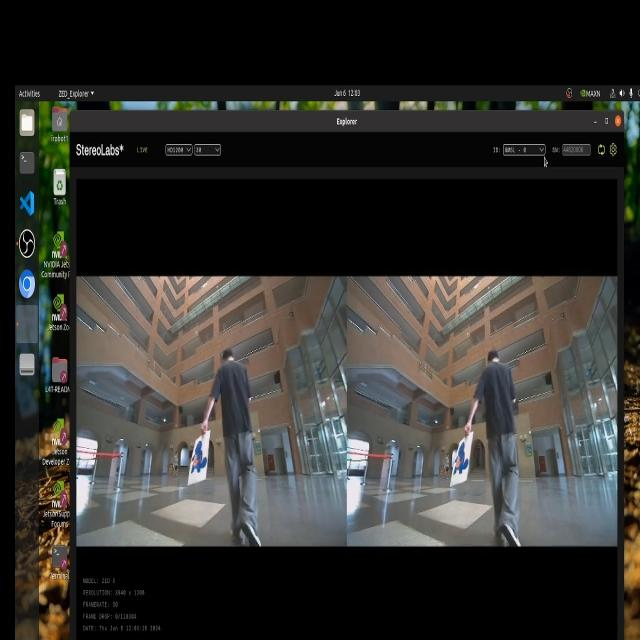blue: (186, 428, 214, 482), (456, 443, 480, 487)
